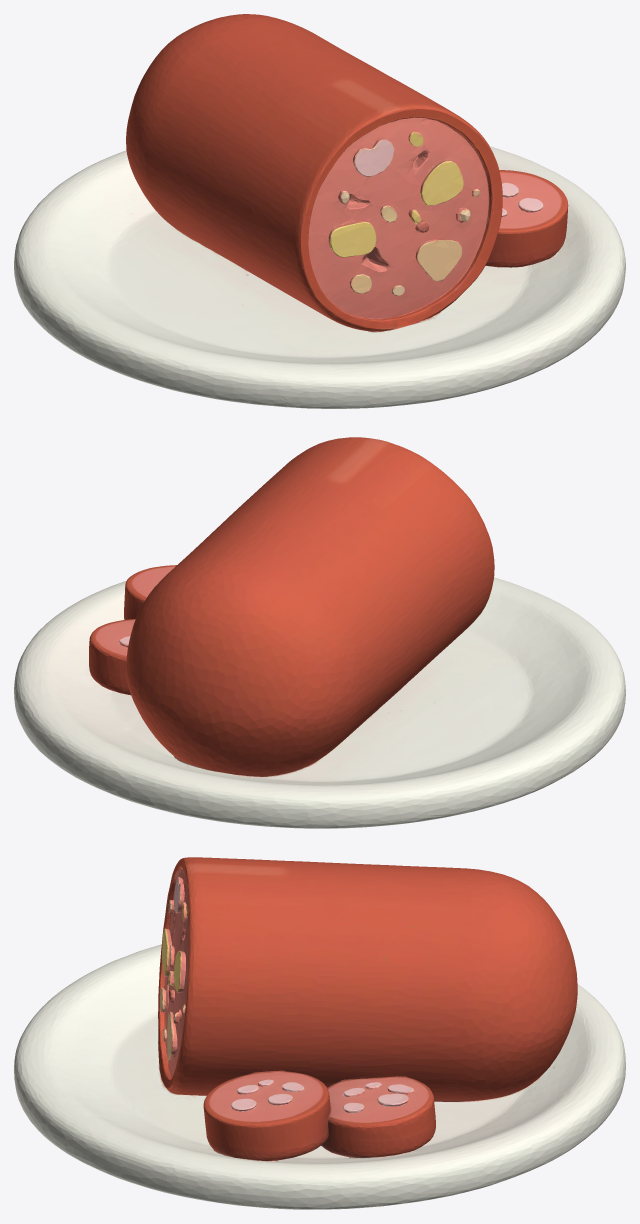
Rendered from meal_3.glb.
3 renders of one model, top to bottom at view 1: azimuth 30°, elevation 25°; view 2: azimuth 150°, elevation 25°; view 3: azimuth 270°, elevation 25°, orthographic.
Visible parts, largest first — view 1: tripo_node_6ba39ab9-7d87-4f91-bb5d-67f6c09a64b3; view 2: tripo_node_6ba39ab9-7d87-4f91-bb5d-67f6c09a64b3; view 3: tripo_node_6ba39ab9-7d87-4f91-bb5d-67f6c09a64b3.
Boxes of the visible parts, <box> form: tripo_node_6ba39ab9-7d87-4f91-bb5d-67f6c09a64b3: <box>14,14,625,408</box>; tripo_node_6ba39ab9-7d87-4f91-bb5d-67f6c09a64b3: <box>14,437,625,828</box>; tripo_node_6ba39ab9-7d87-4f91-bb5d-67f6c09a64b3: <box>14,857,625,1209</box>.
Size of the model in its own units: 1 by 0.4233 by 0.9989.
1 material, 1 textured.
